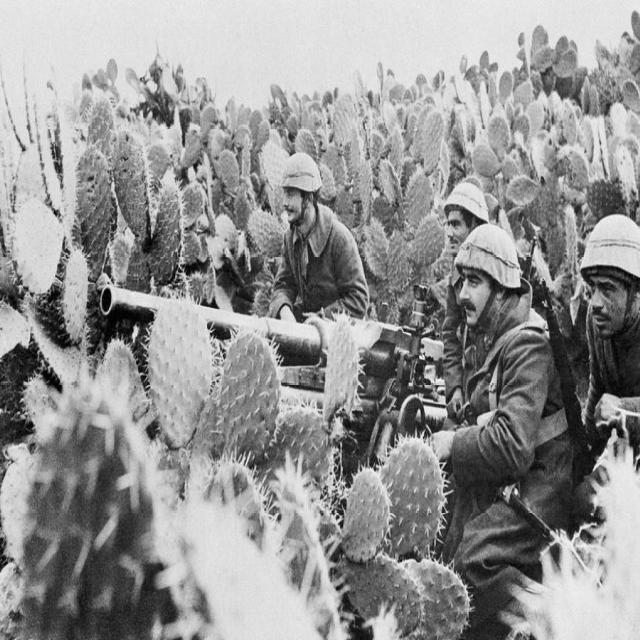body: (427, 223, 591, 637), (428, 181, 491, 566), (266, 149, 372, 328), (564, 213, 640, 462)
